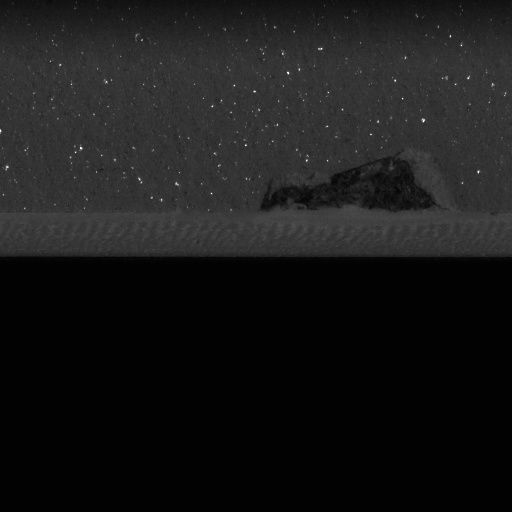bengque: (258, 154, 450, 215)
